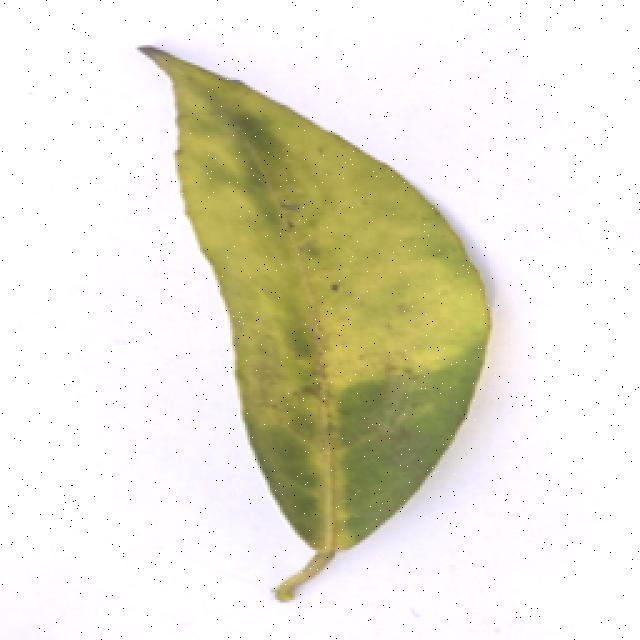blackspot: (130, 22, 500, 612)
